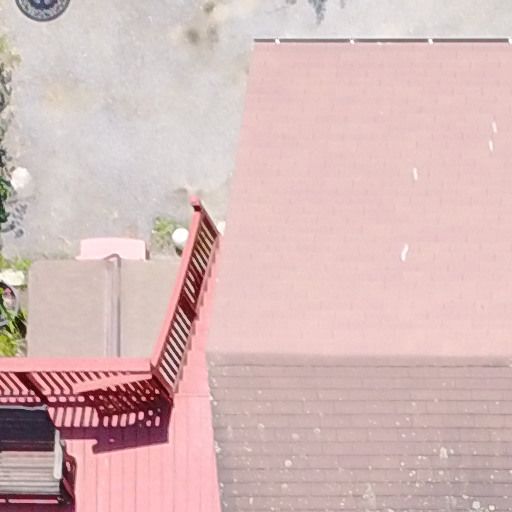porch: (1, 167, 261, 512)
